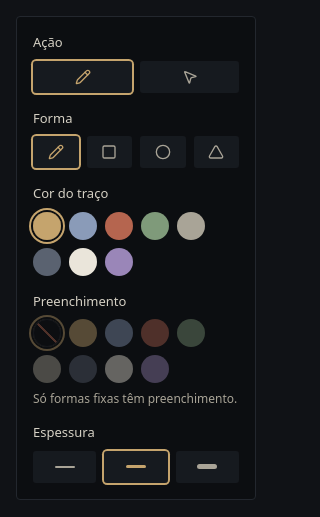
Test: DrawStylePanel › with a fixed shape the fill can be chosen
Click the radio button named "Quadrado": (109, 152) [86, 136, 132, 168]
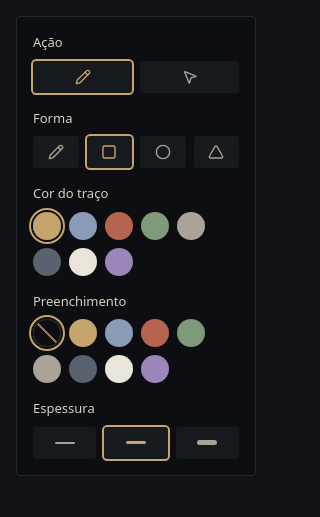
Check: the radio button named "Nenhum" is enabled, box [33, 319, 61, 347]
Check: the text "Só formas fixas têm preenchimento." is gone
